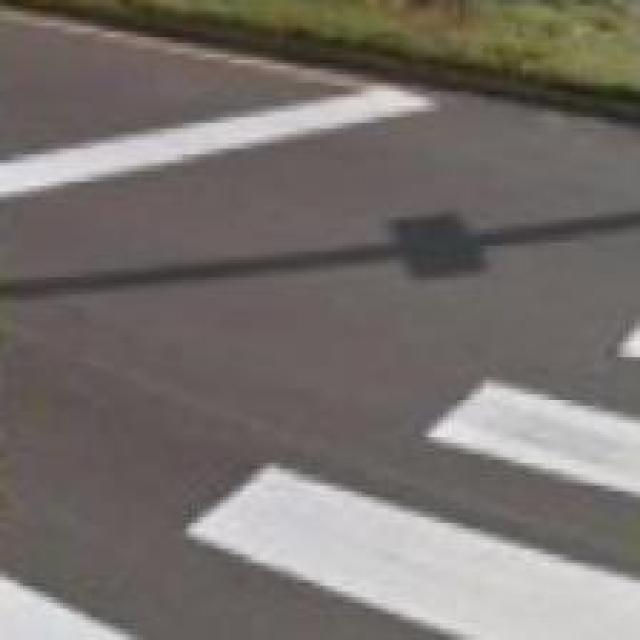walk-crossing: (10, 373, 636, 636)
